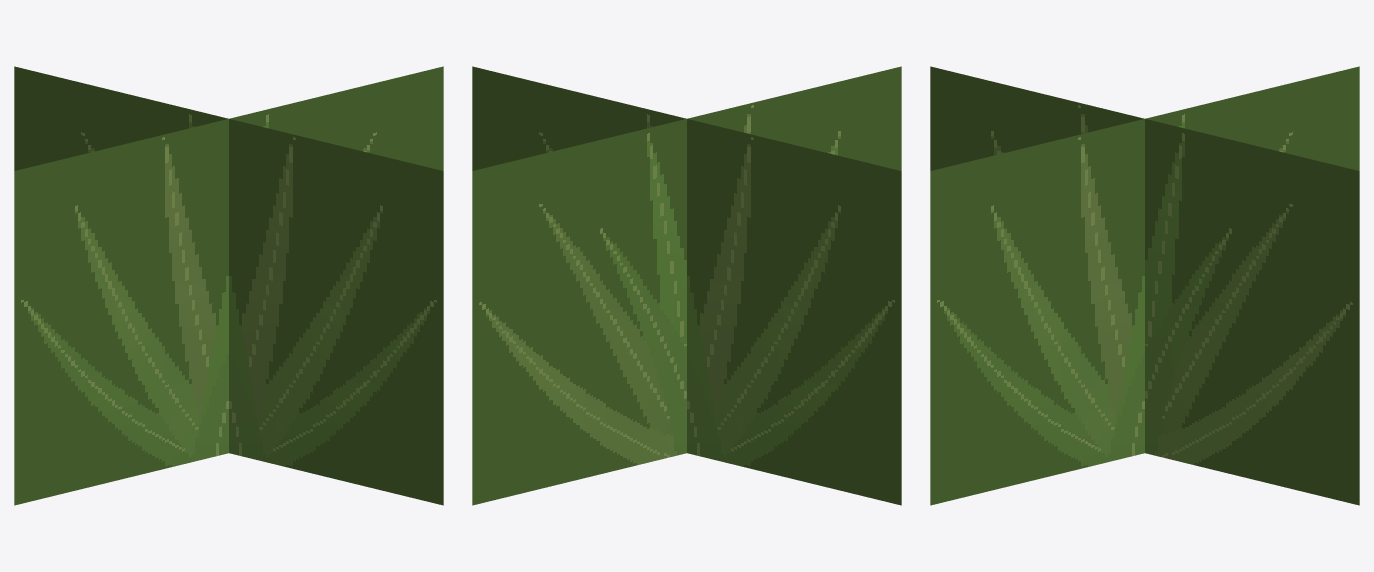
File: Grass_01.glb
3 views of the same model, side by side, from view 1: azimuth 30°, elevation 25°; view 2: azimuth 150°, elevation 25°; view 3: azimuth 270°, elevation 25° (orthographic).
Parts seen in each view (by area): view 1: Grass_01; view 2: Grass_01; view 3: Grass_01.
Part boxes in pixels (x1=…): Grass_01: x1=14, y1=66, x2=443, y2=505; Grass_01: x1=472, y1=66, x2=901, y2=505; Grass_01: x1=930, y1=66, x2=1359, y2=505.
Size of the model in its own units: 0.86 by 0.64 by 0.7448.
1 material, 1 textured.
